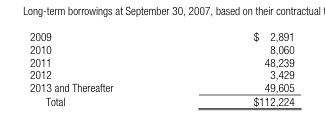table: (29, 29, 293, 107)
table column: (29, 29, 182, 107), (182, 29, 293, 107)
table row: (29, 93, 293, 107), (29, 29, 293, 42), (29, 42, 293, 55), (29, 67, 293, 80), (29, 80, 293, 93), (29, 55, 293, 67)
